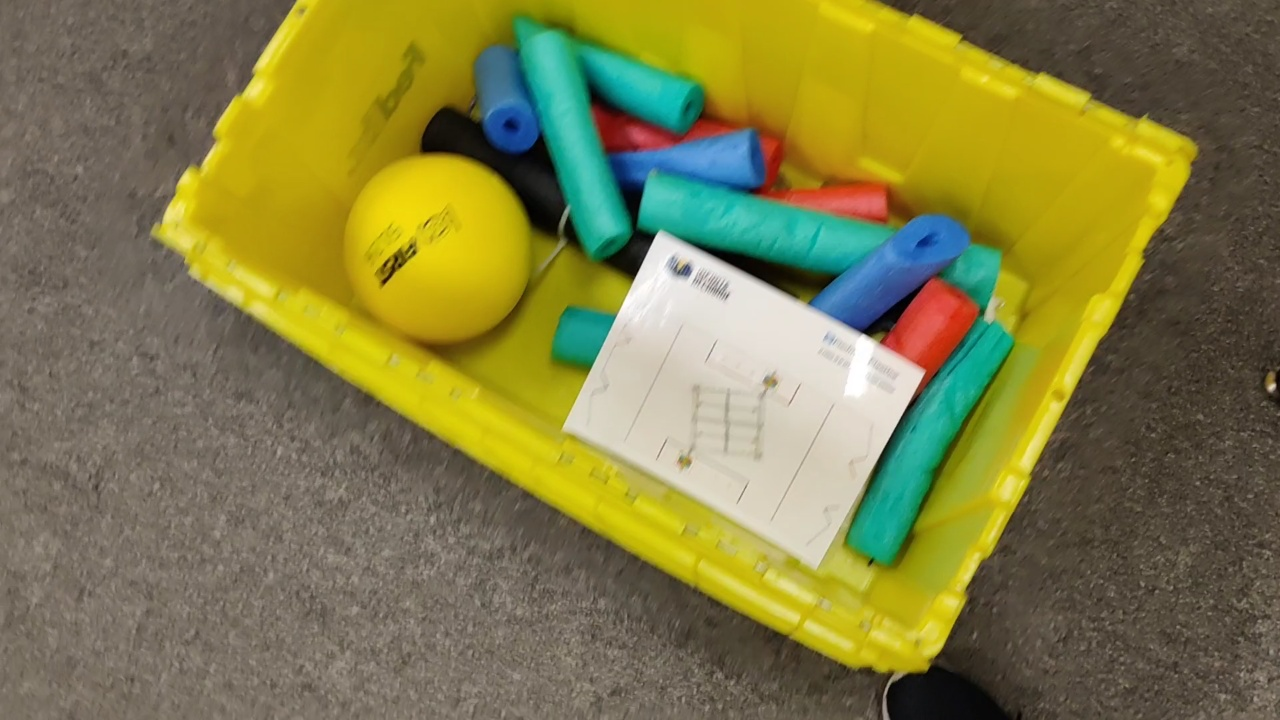Ball: (346, 153, 528, 343)
